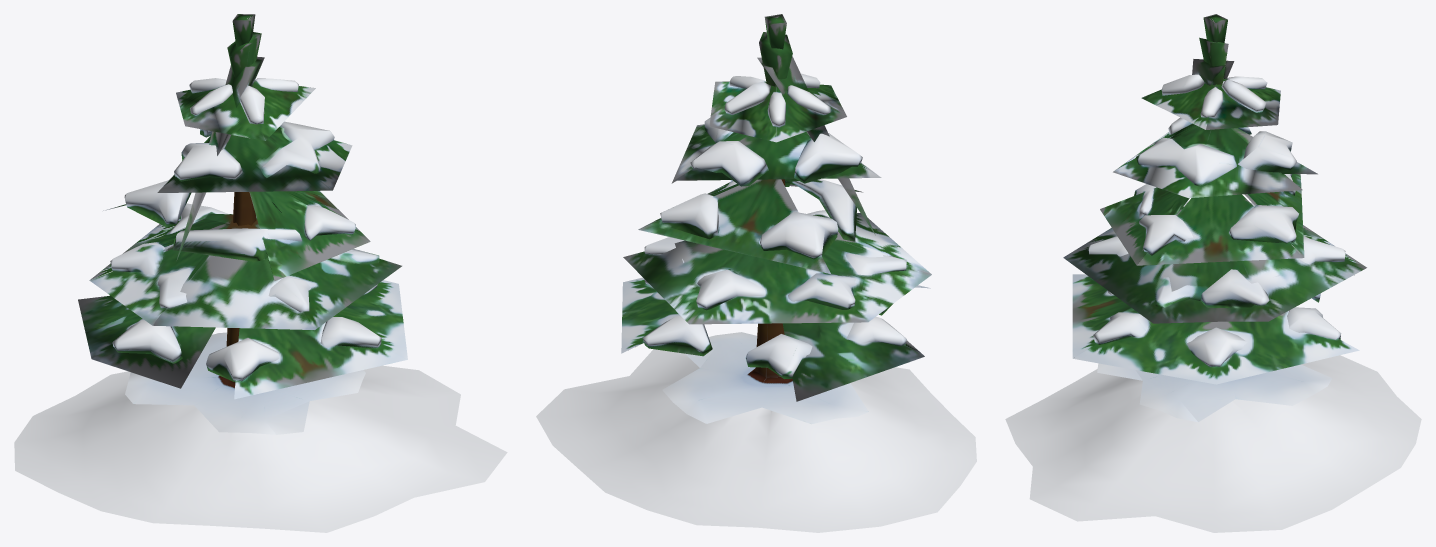
The model's file is SKI_OBS_PineSmall-BRoFu9qo.glb.
3 renders of one model, left to right at view 1: azimuth 30°, elevation 25°; view 2: azimuth 150°, elevation 25°; view 3: azimuth 270°, elevation 25°, orthographic. The views are drawn at different scales.
Parts seen in each view (by area): view 1: SKI_OBS_PineSmall; view 2: SKI_OBS_PineSmall; view 3: SKI_OBS_PineSmall.
Boxes of the visible parts, x1=… form: SKI_OBS_PineSmall: x1=14, y1=14, x2=507, y2=532; SKI_OBS_PineSmall: x1=536, y1=14, x2=976, y2=532; SKI_OBS_PineSmall: x1=1005, y1=14, x2=1421, y2=532.
Size of the model in its own units: 2.21 by 2.2 by 2.01.
1 material, 1 textured.
